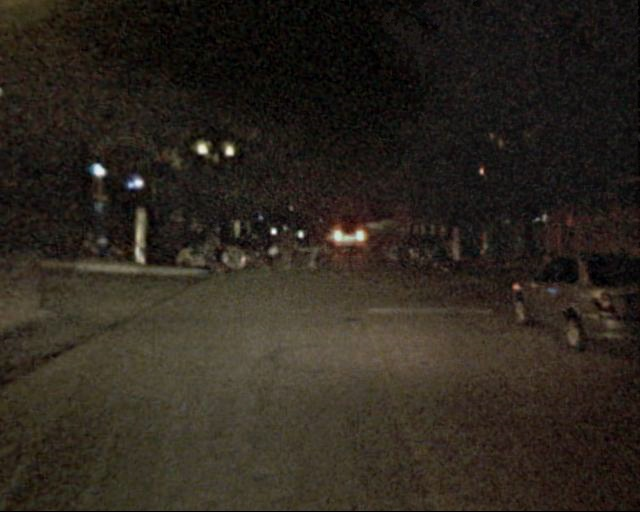person: (205, 219, 229, 278), (304, 223, 324, 274), (253, 220, 274, 267), (276, 223, 297, 270)
